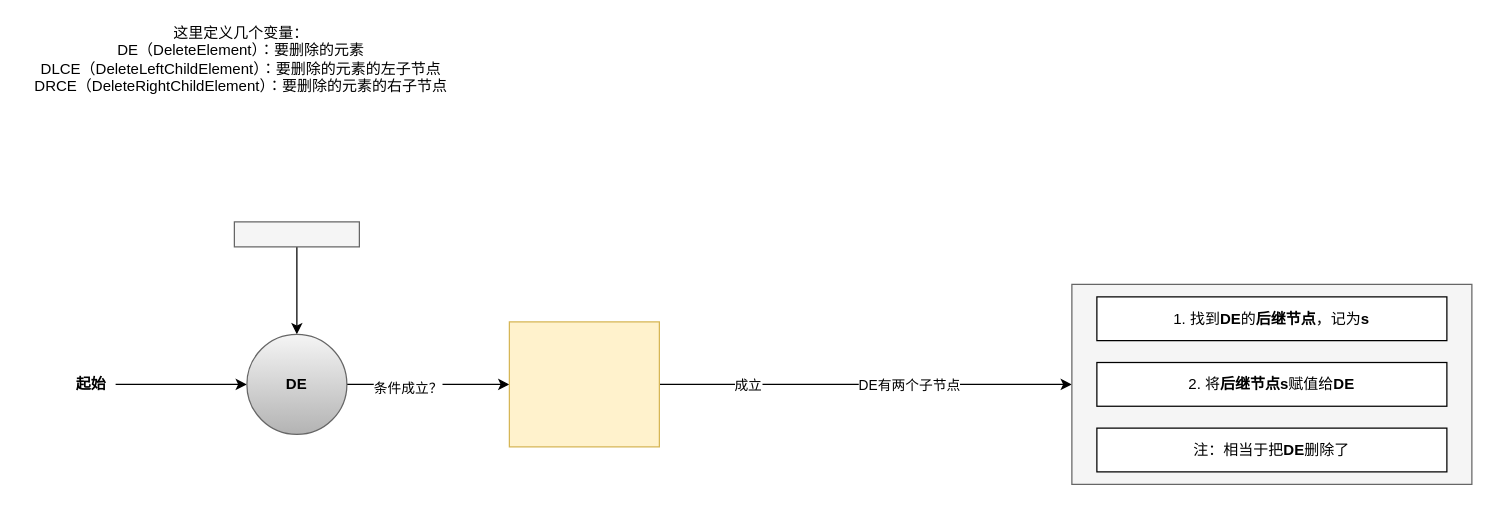
Some shapes in this 1494 by 506 pixel diagram are drawn without their labels. The shapes that lost their labels are listed below. From the top down, each one's box as (x1, y1, x2, y2) in pixels, then its label:
(233, 221, 359, 247): 要删除的元素DE
(508, 321, 659, 447): DLCE & DRCE 不为空
